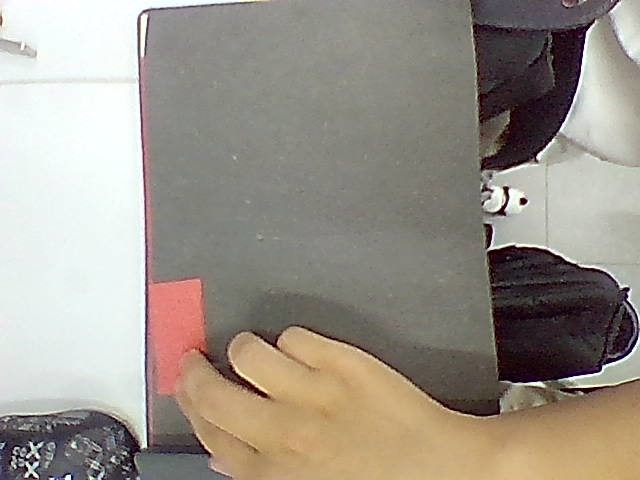card: (149, 278, 205, 395)
